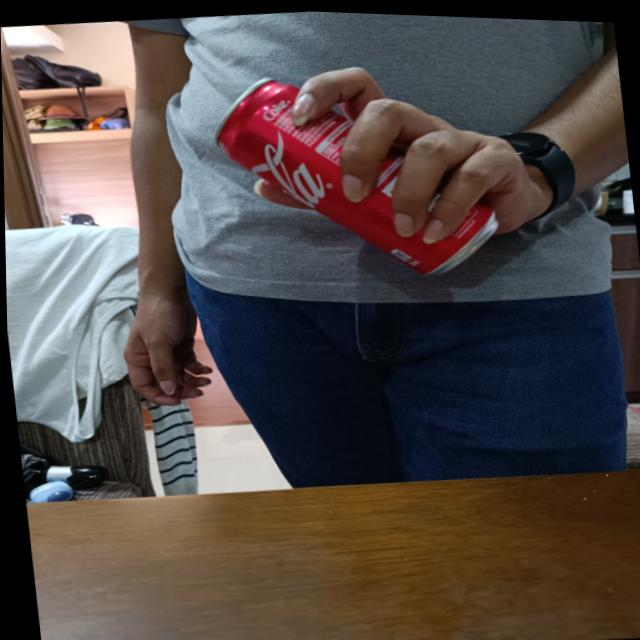coke: (203, 60, 504, 292)
